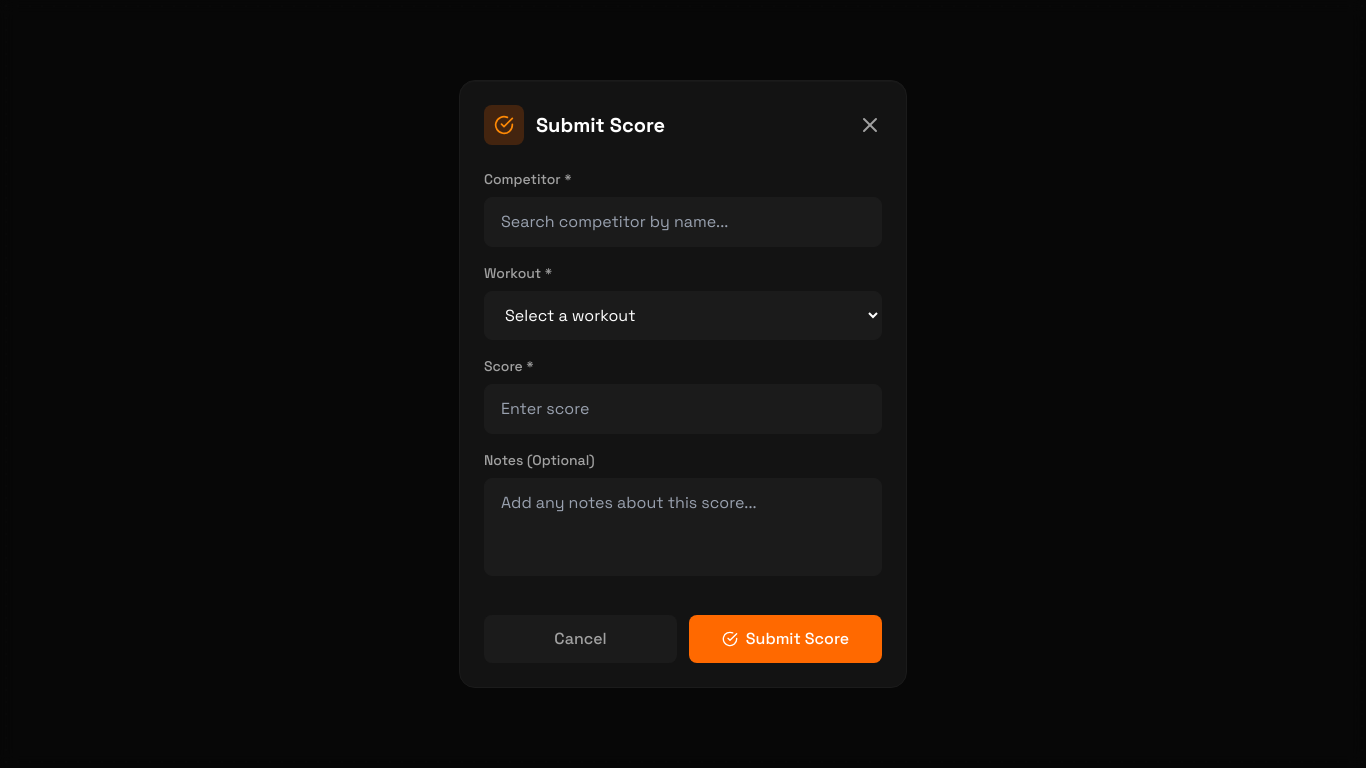
Test: ScoreSubmissionModal › populates competitor dropdown
Note: Open the typeahead list
Focus the dropdown labelled "Competitor *": [683, 222] box [484,197,882,247]
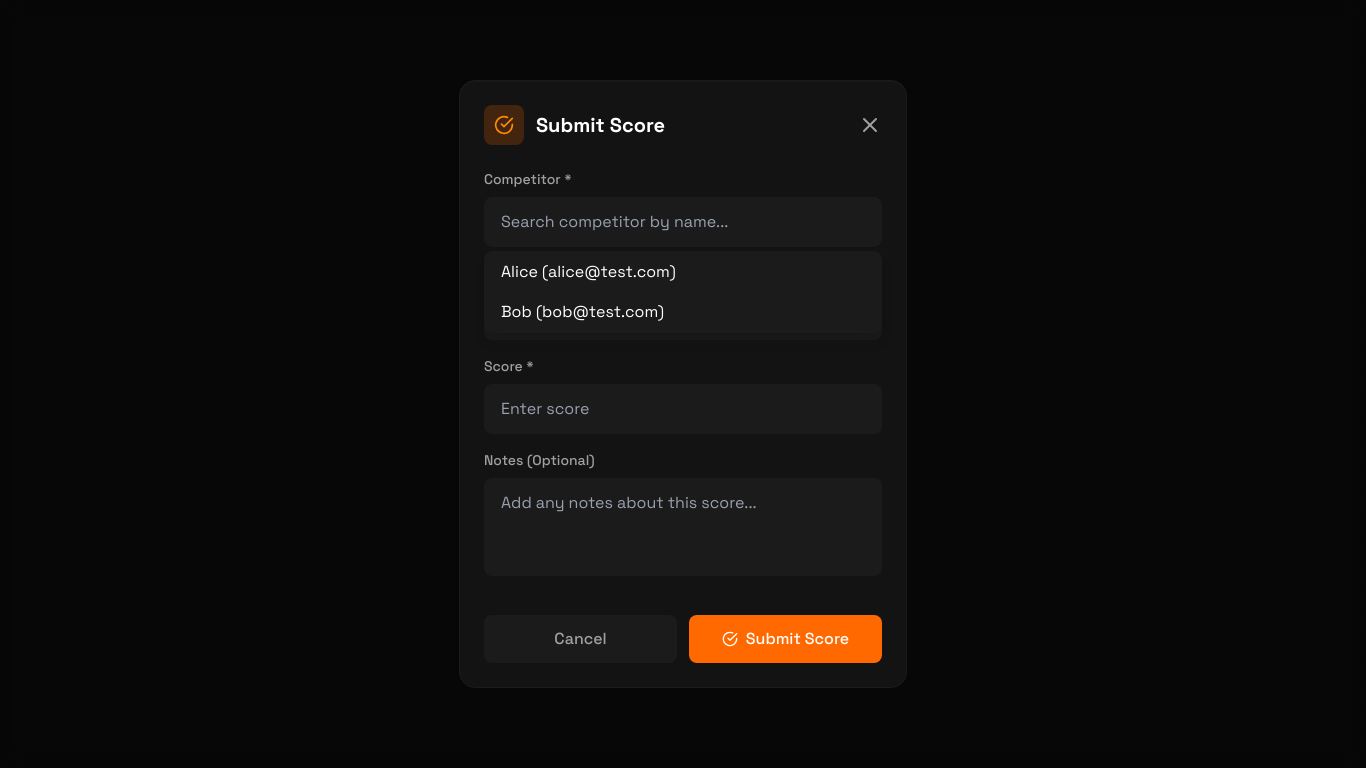
expect the option "Alice (alice@test.com)" is shown: met, box [501,261,676,282]
expect the option "Bob (bob@test.com)" is shown: met, box [501,301,664,322]
